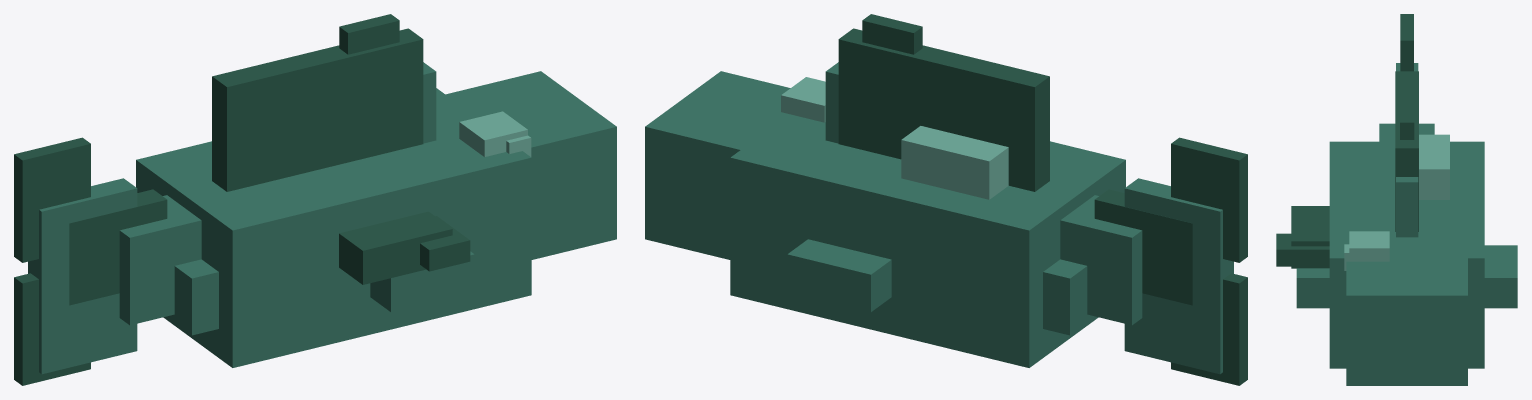
File: fish_tide_wrasse.glb
The picture shows the model from 3 angles, left to right: view 1: azimuth 30°, elevation 25°; view 2: azimuth 150°, elevation 25°; view 3: azimuth 270°, elevation 25°; orthographic projection. The views are drawn at different scales.
Visible parts, largest first — view 1: FishArt_body, FishArt_dorsal, FishArt_tail, FishArt_pectoral, FishArt_eye; view 2: FishArt_body, FishArt_dorsal, FishArt_tail, FishArt_specialty, FishArt_eye; view 3: FishArt_body, FishArt_pectoral, FishArt_dorsal, FishArt_specialty, FishArt_eye, FishArt_tail.
Part boxes in pixels (x1=…): FishArt_body: x1=28, y1=62, x2=616, y2=374; FishArt_dorsal: x1=212, y1=14, x2=423, y2=191; FishArt_tail: x1=14, y1=137, x2=167, y2=385; FishArt_pectoral: x1=339, y1=211, x2=470, y2=284; FishArt_eye: x1=459, y1=111, x2=531, y2=156; FishArt_body: x1=645, y1=62, x2=1233, y2=374; FishArt_dorsal: x1=838, y1=14, x2=1049, y2=191; FishArt_tail: x1=1094, y1=137, x2=1247, y2=385; FishArt_specialty: x1=901, y1=126, x2=1008, y2=199; FishArt_eye: x1=781, y1=77, x2=825, y2=122; FishArt_body: x1=1296, y1=63, x2=1517, y2=385; FishArt_pectoral: x1=1276, y1=206, x2=1329, y2=268; FishArt_dorsal: x1=1395, y1=71, x2=1418, y2=231; FishArt_specialty: x1=1419, y1=134, x2=1449, y2=199; FishArt_eye: x1=1344, y1=231, x2=1389, y2=270; FishArt_tail: x1=1400, y1=14, x2=1413, y2=71.
Size of the model in its own units: 0.3091 by 0.1442 by 0.1439.
